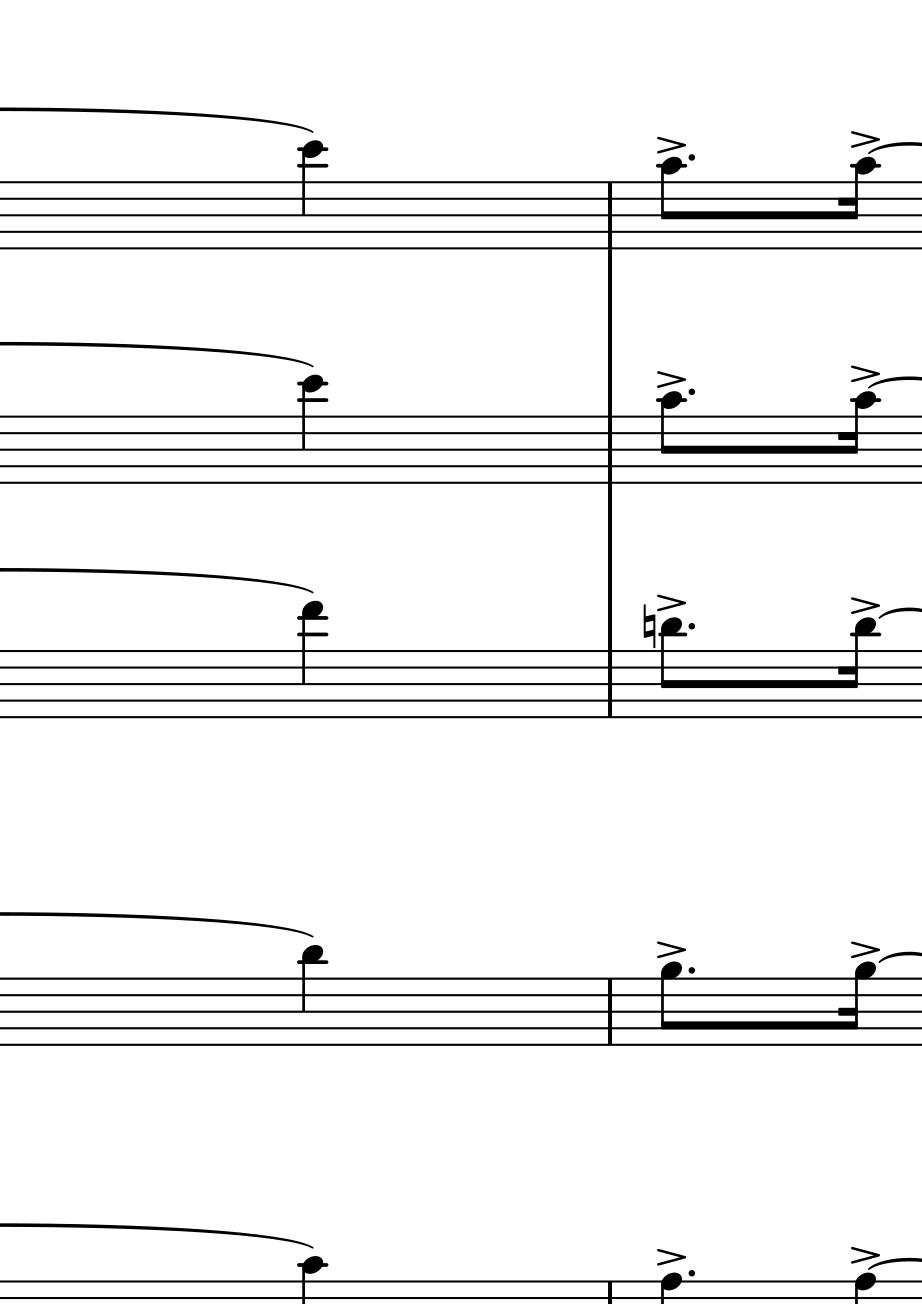16_10: (841, 155, 880, 252), (841, 390, 880, 486)
16_11: (841, 615, 878, 721)
16_9: (841, 961, 875, 1049)
4_11: (298, 944, 327, 1049)
4_12: (298, 374, 327, 487), (298, 140, 327, 252)
4_13: (298, 598, 325, 723)
8_10: (657, 156, 686, 252), (657, 390, 685, 486)
8_11: (657, 616, 685, 722)
8_9: (658, 961, 684, 1050)
Accent_above: (848, 361, 881, 385), (848, 594, 882, 615), (848, 1244, 881, 1265), (848, 128, 880, 149), (848, 939, 880, 960), (655, 133, 685, 155), (654, 1246, 687, 1266), (654, 591, 685, 612), (655, 368, 685, 389), (654, 940, 686, 959)
Natural: (640, 602, 656, 651)
Single_barline: (598, 182, 622, 250), (599, 416, 622, 483), (599, 651, 620, 718), (600, 979, 620, 1045)
dot: (685, 386, 697, 399), (685, 621, 697, 634), (684, 965, 697, 977), (685, 152, 697, 164), (684, 1268, 697, 1279)
